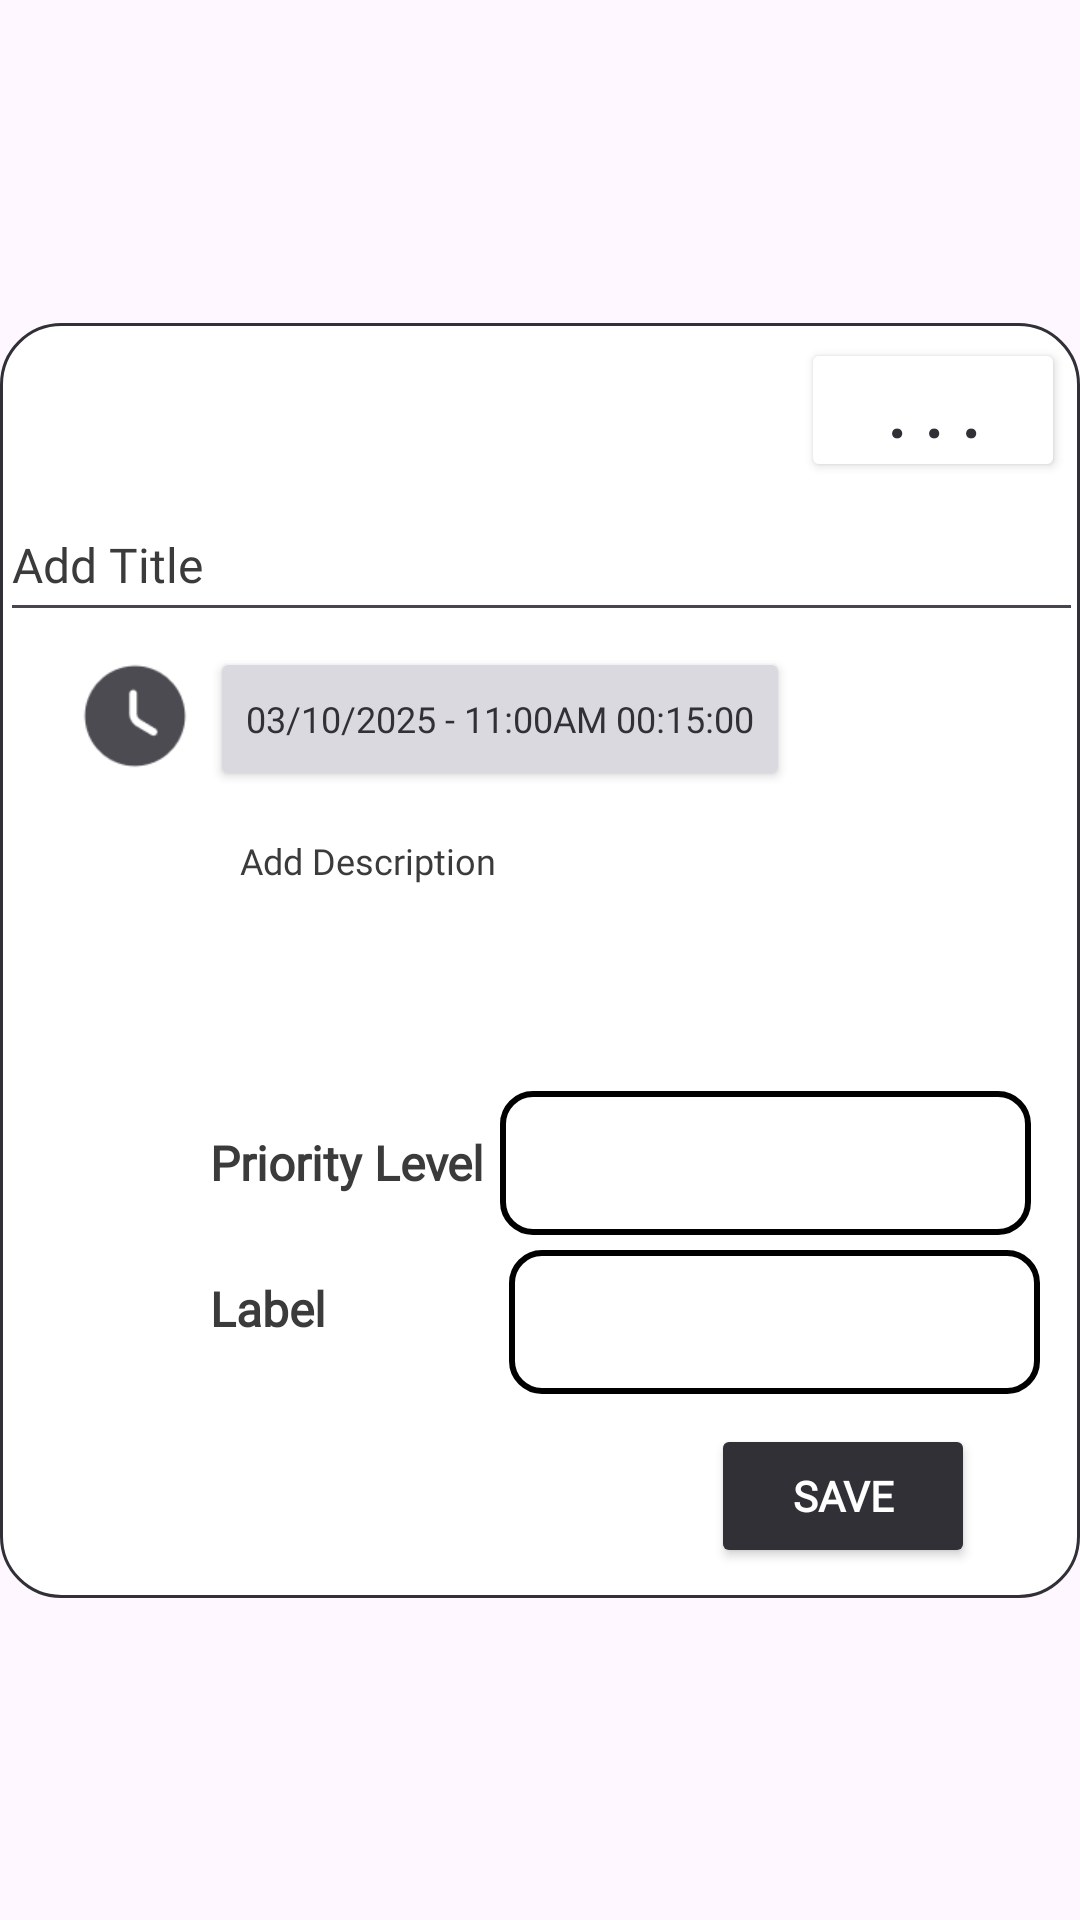

Named icons in this screenshot (1080px×1920px) and their bounding boxes, bbox=[x1, y1, x2, y2]:
clock: bbox=[84, 665, 186, 767]
